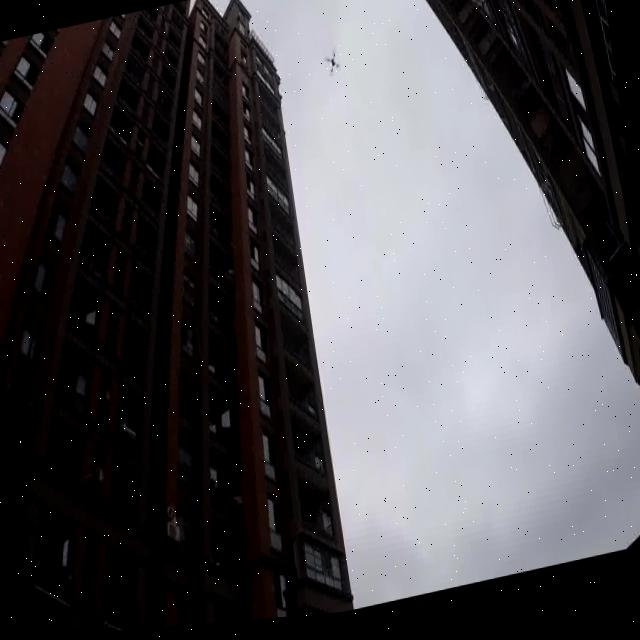drone: (316, 39, 346, 97)
